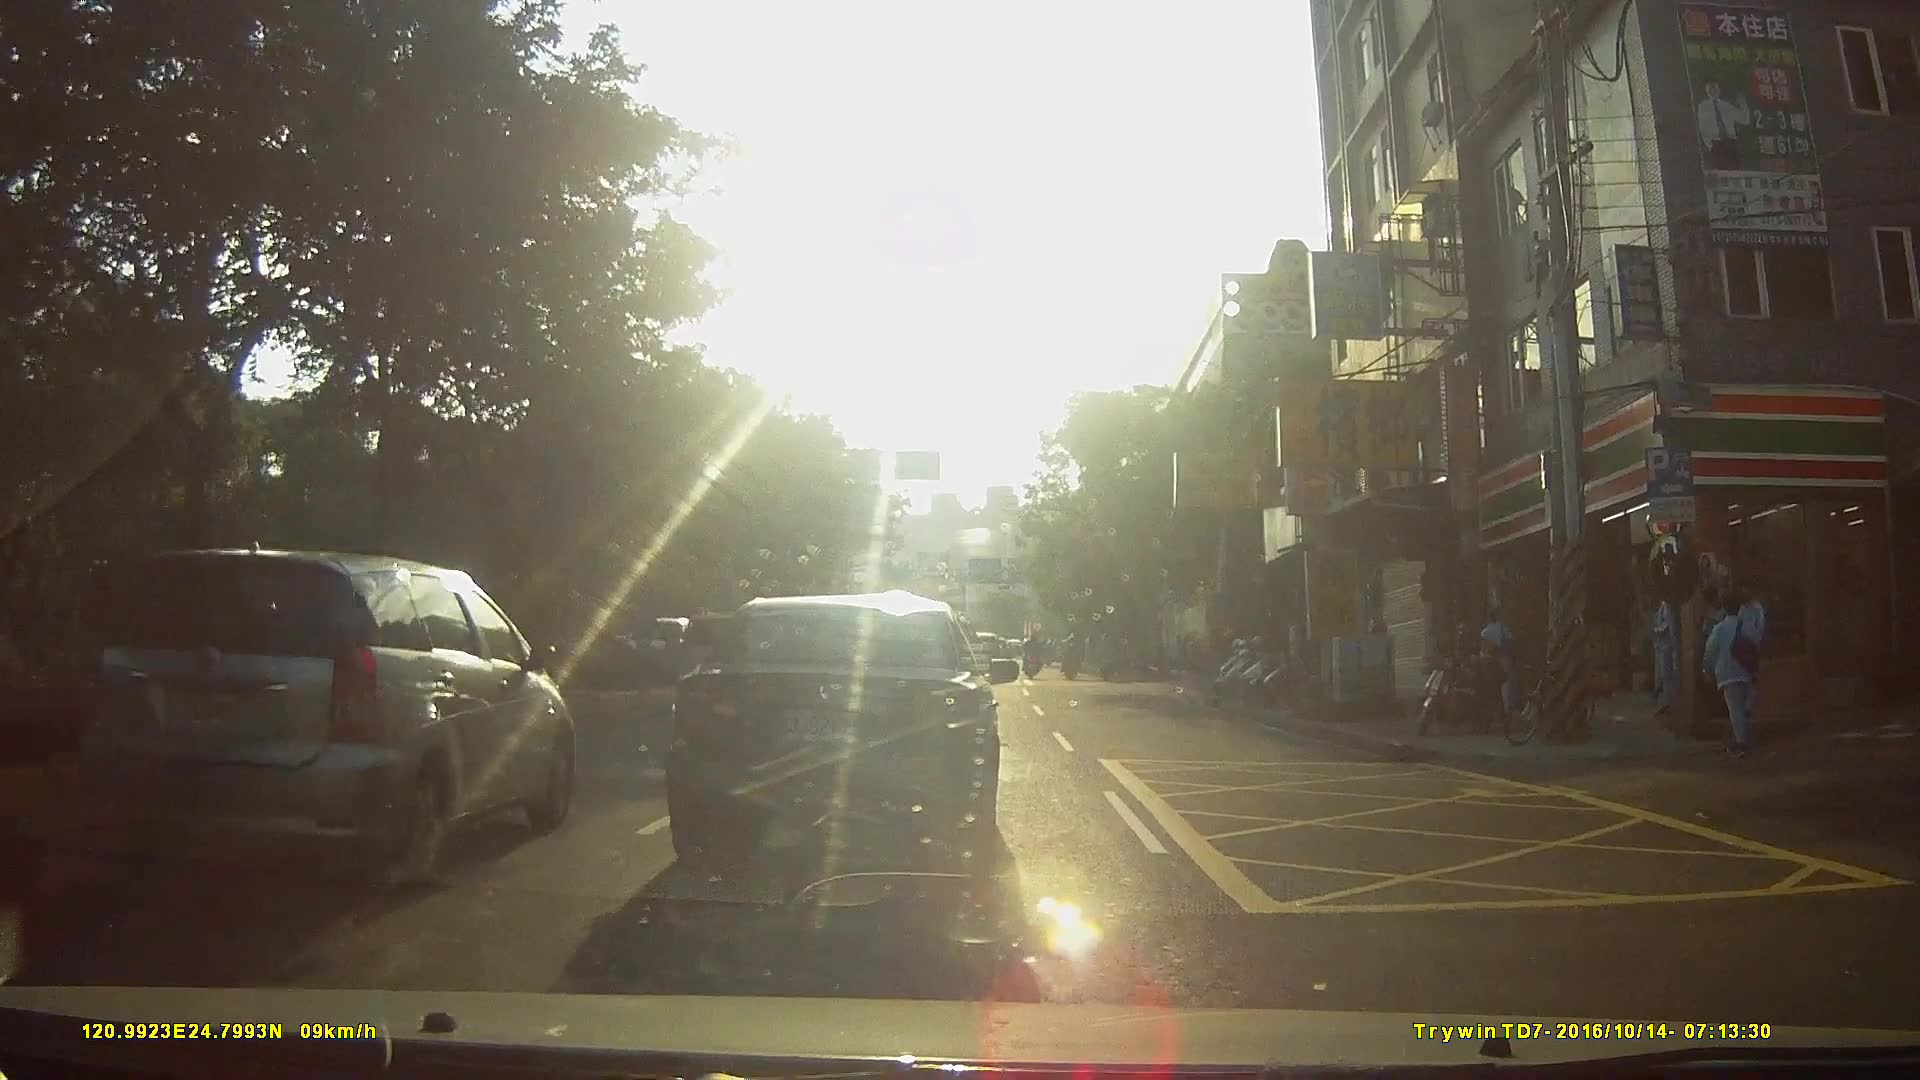pedestrian: (1708, 596, 1768, 762), (1720, 583, 1772, 720), (1701, 574, 1737, 713), (1477, 609, 1523, 716), (1648, 585, 1683, 717)
rider: (1062, 627, 1088, 686), (1095, 628, 1119, 686), (1022, 634, 1046, 681)
vehicle: (61, 549, 589, 881), (618, 578, 1029, 867)
